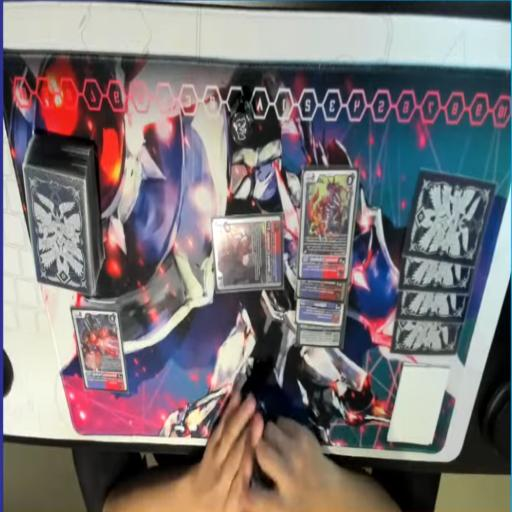card: (210, 207, 284, 298), (300, 167, 353, 281), (70, 311, 128, 394), (296, 321, 346, 355), (295, 297, 345, 328), (297, 276, 350, 304)
